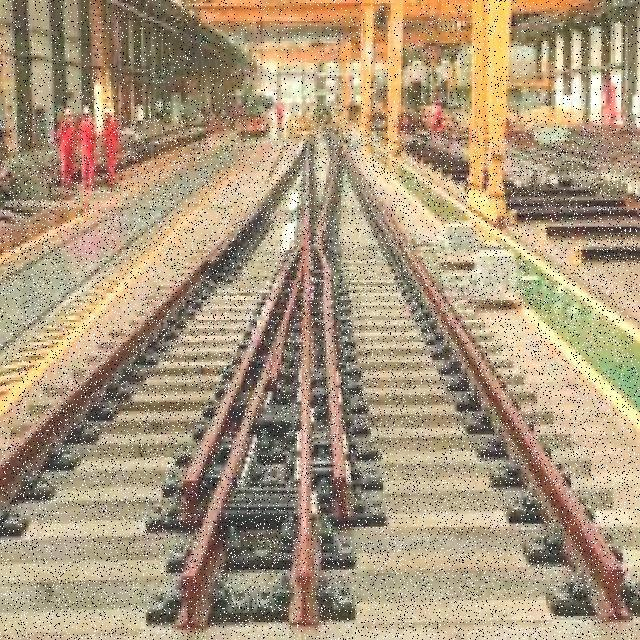rail: (1, 115, 637, 639)
